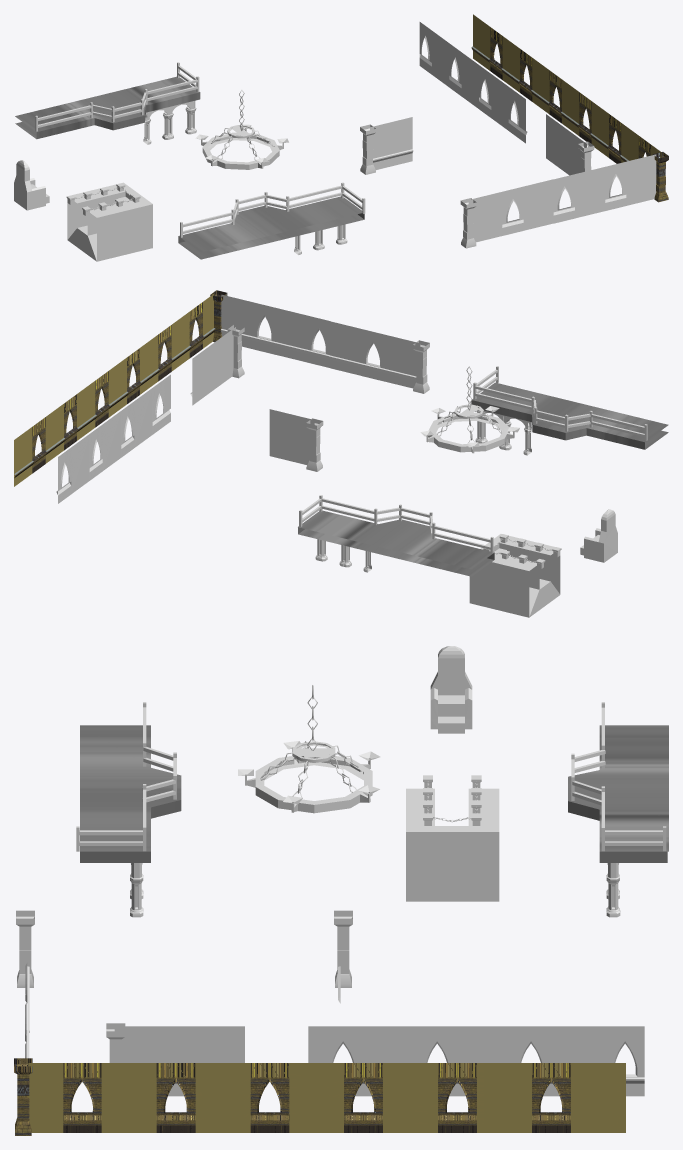
The model's file is checkpoint1+Checpoint2.FBX.
The picture shows the model from 3 angles, top to bottom: view 1: azimuth 30°, elevation 25°; view 2: azimuth 150°, elevation 25°; view 3: azimuth 270°, elevation 25°; orthographic projection. The views are drawn at different scales.
Visible parts, largest first — view 1: Object173, Object191, Box050, Object183, pared013, Object188, Object174, Cylinder011, Object184, Object145, Object177, Object190 (+2 smaller); view 2: Object191, Object173, Object188, Box050, pared013, Object183, Object174, Cylinder011, Object177, Object145, Object184, Object190 (+1 smaller); view 3: Object191, pared013, Object183, Object188, Box050, Cylinder011, Object177, Object190, Object184, Object145, Object173, Object174.
Boxes of the visible parts, bbox=[...] form: Object173: bbox=[460, 154, 656, 248]; Object191: bbox=[471, 14, 668, 202]; Box050: bbox=[66, 182, 152, 261]; Object183: bbox=[178, 196, 364, 259]; pared013: bbox=[419, 22, 527, 143]; Object188: bbox=[15, 76, 200, 139]; Object174: bbox=[360, 117, 413, 174]; Cylinder011: bbox=[195, 89, 288, 169]; Object184: bbox=[180, 182, 365, 237]; Object145: bbox=[35, 62, 199, 131]; Object177: bbox=[546, 114, 586, 175]; Object190: bbox=[14, 160, 49, 210]; Object191: bbox=[14, 290, 227, 486]; Object173: bbox=[221, 294, 429, 393]; Object188: bbox=[298, 510, 494, 576]; Box050: bbox=[469, 534, 561, 617]; pared013: bbox=[56, 374, 170, 503]; Object183: bbox=[471, 382, 668, 449]; Object174: bbox=[269, 409, 323, 471]; Cylinder011: bbox=[420, 366, 519, 453]; Object177: bbox=[190, 327, 235, 405]; Object145: bbox=[299, 495, 493, 553]; Object184: bbox=[473, 366, 647, 440]; Object190: bbox=[580, 509, 617, 562]; Object191: bbox=[14, 1058, 625, 1135]; pared013: bbox=[308, 1026, 644, 1096]; Object183: bbox=[80, 725, 181, 862]; Object188: bbox=[568, 725, 668, 862]; Box050: bbox=[406, 775, 499, 901]; Cylinder011: bbox=[238, 685, 380, 813]; Object177: bbox=[114, 1026, 244, 1096]; Object190: bbox=[430, 646, 472, 733]; Object184: bbox=[76, 702, 176, 851]; Object145: bbox=[571, 702, 666, 851]; Object173: bbox=[16, 910, 34, 1058]; Object174: bbox=[334, 910, 352, 1003].
Bounding box in the file's own units: 6495 × 2021 × 4566.
